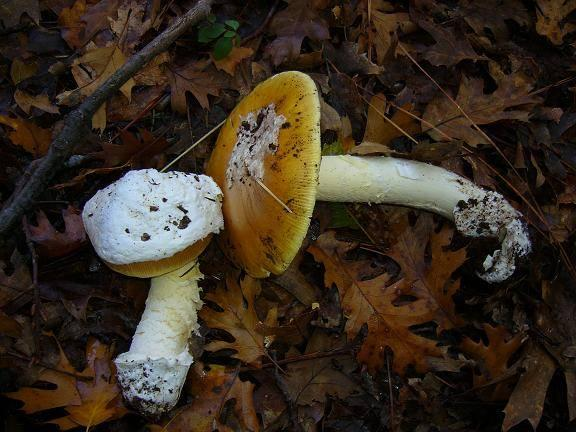edible_mushroom: (205, 69, 533, 285), (80, 166, 225, 417), (205, 69, 322, 278)
